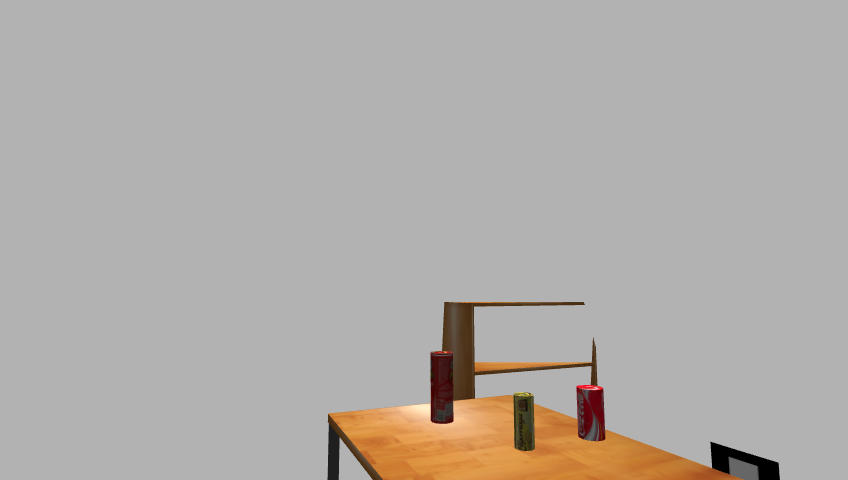aruco marker: (705, 440, 786, 480)
biscuits pack: (512, 392, 536, 453)
bookshelf: (437, 297, 592, 472)
coke can: (574, 385, 606, 442)
dinner table: (319, 397, 765, 480)
pringles can: (427, 350, 455, 425)
